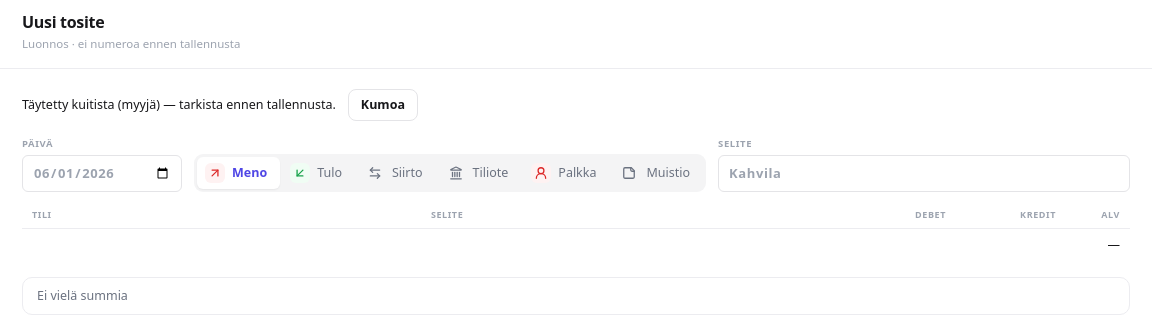
Test: TositeEditori — ulkoinen täyttö (kuitti) › ilmoitus katoaa ensimmäisestä omasta muokkauksesta
In the field labelled "Selite": (924, 173) x1=718 y1=155 x2=1130 y2=192, type " 2"
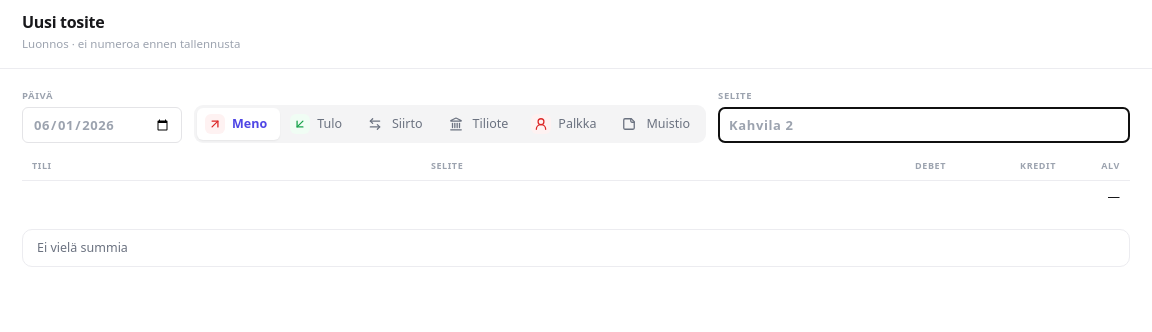
Expected: the text "Täytetty kuitista" is gone
